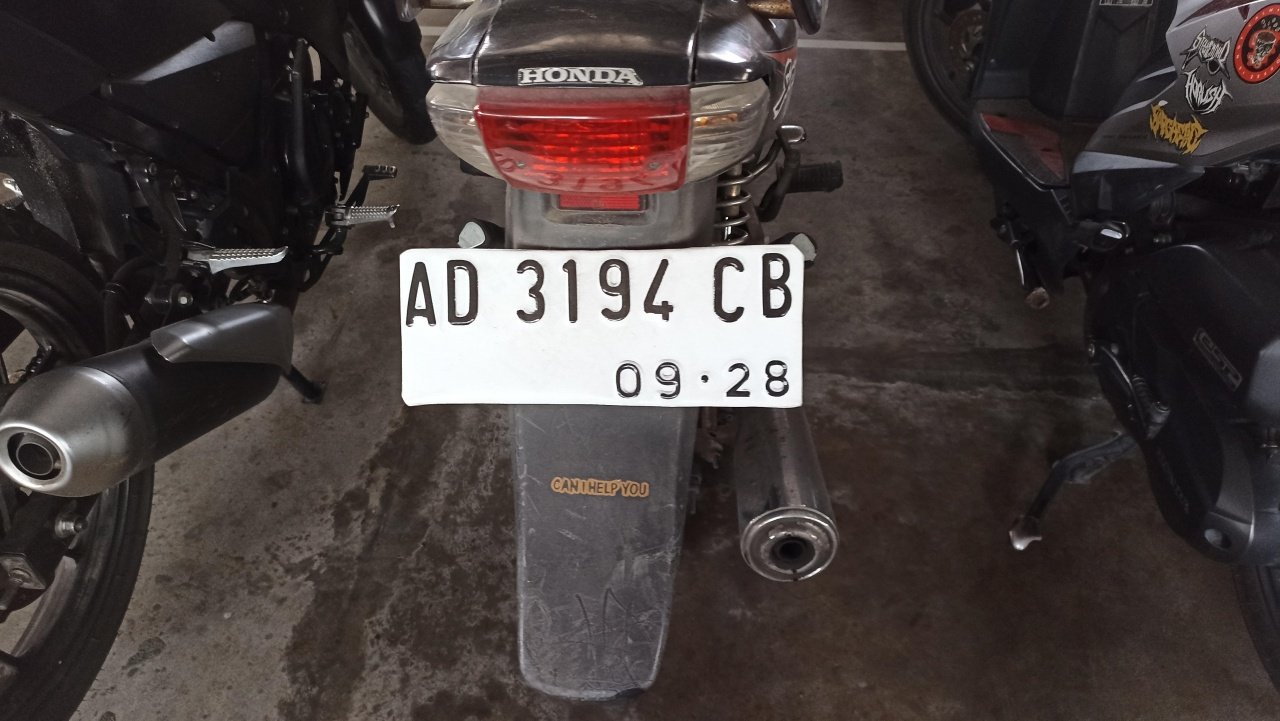plate: (401, 244, 801, 407)
